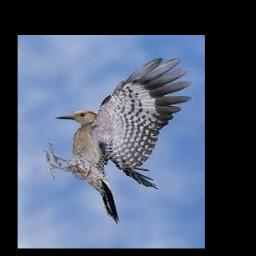Woodpecker: (44, 58, 192, 223)
